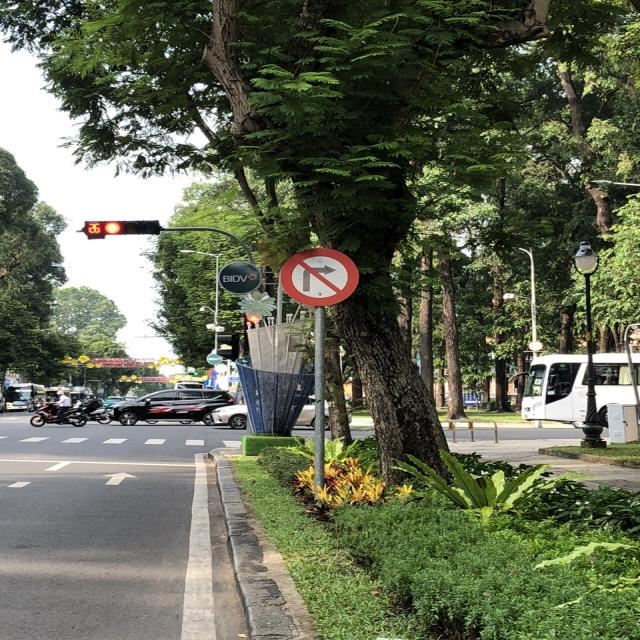Bien bao cam re phai: (279, 242, 363, 309)
